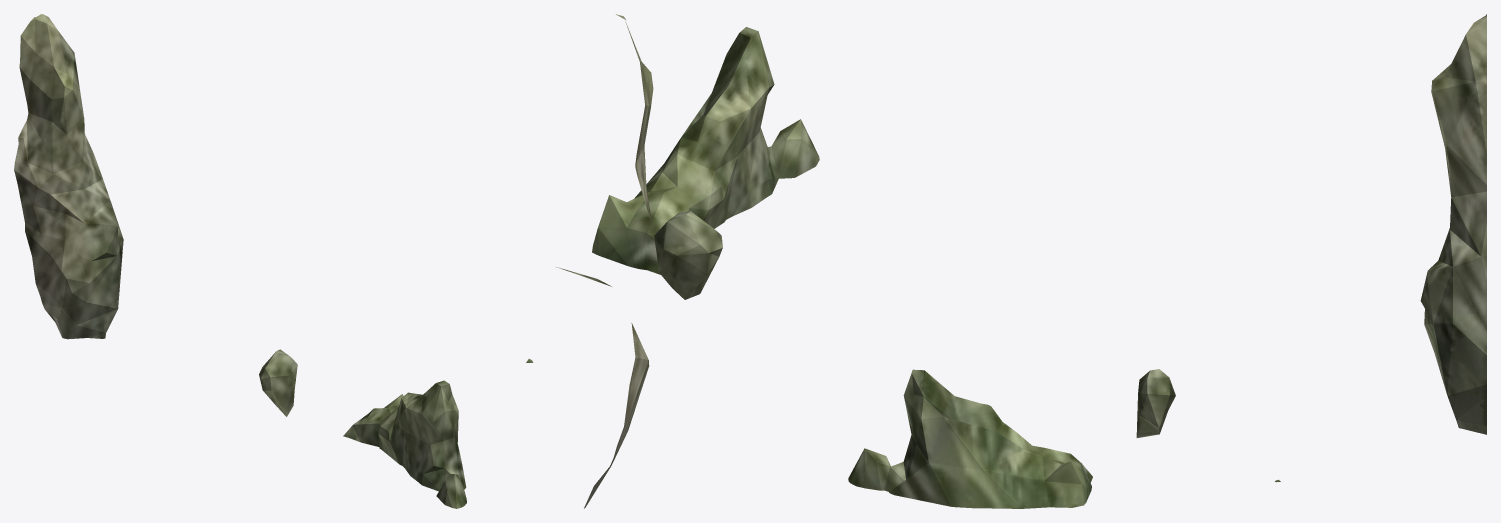
3 views of the same model, side by side, from view 1: azimuth 30°, elevation 25°; view 2: azimuth 150°, elevation 25°; view 3: azimuth 270°, elevation 25° (orthographic). The views are drawn at different scales.
Size of the model in its own units: 2.31 by 3.27 by 4.95.
Materials: 1 (1 with a texture image).
